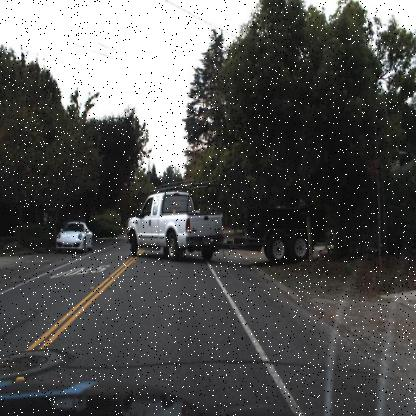car: (127, 186, 325, 265), (54, 220, 91, 256)
